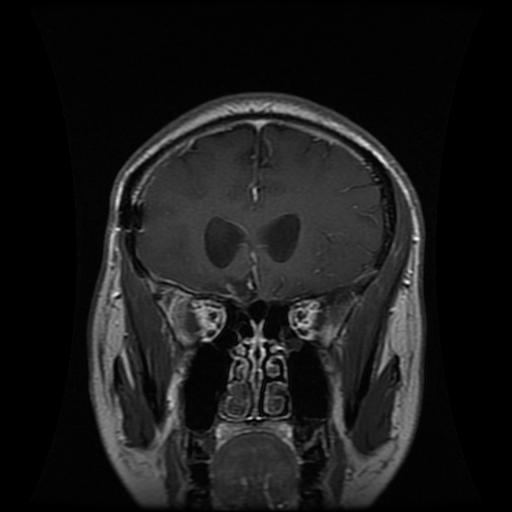Gliomia_tumour: (219, 269, 260, 302)
